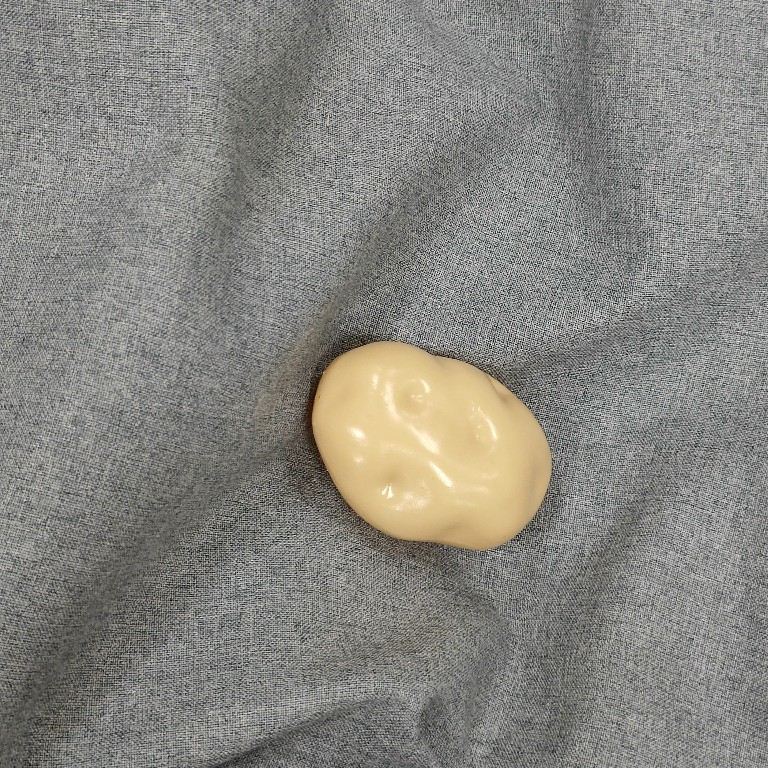fruit_potato: (303, 334, 555, 554)
